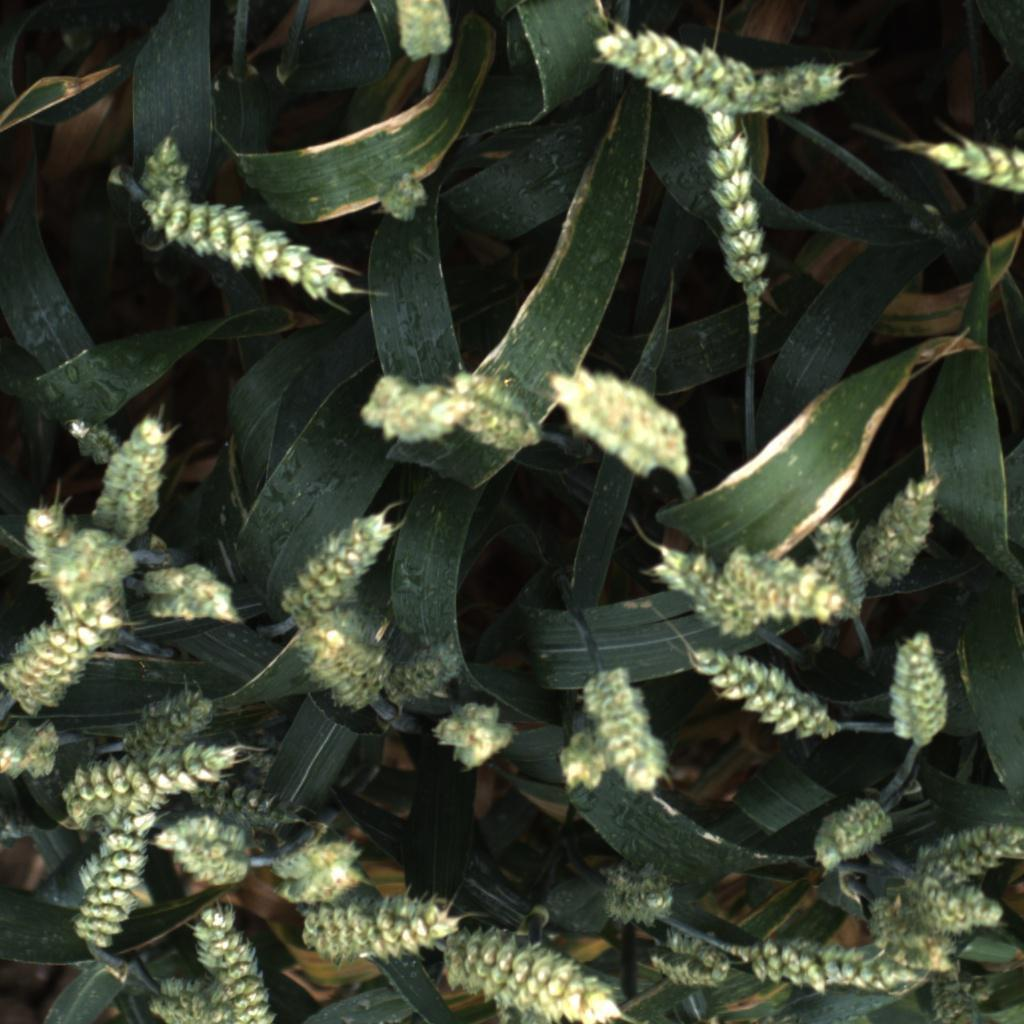0-0: (148, 205, 350, 311), (690, 108, 777, 322), (452, 924, 638, 1024), (551, 366, 690, 485), (0, 593, 123, 714), (688, 640, 830, 743), (60, 746, 242, 824), (584, 25, 748, 108), (634, 538, 766, 635), (304, 884, 461, 963), (581, 665, 678, 786), (77, 811, 160, 949), (281, 506, 390, 611), (753, 933, 913, 1000), (193, 904, 277, 1024), (724, 548, 849, 627), (95, 409, 175, 532), (864, 463, 945, 584), (293, 617, 385, 720), (895, 134, 1024, 206), (864, 894, 963, 987), (128, 116, 197, 241), (880, 631, 950, 752), (360, 371, 466, 449), (152, 811, 255, 890), (450, 367, 541, 455), (142, 560, 250, 634), (808, 509, 874, 625), (272, 831, 370, 907), (748, 54, 859, 118), (131, 680, 222, 758), (920, 819, 1024, 885), (431, 696, 517, 775), (59, 516, 144, 595), (814, 793, 893, 874), (646, 931, 737, 998), (21, 500, 90, 587), (907, 877, 1006, 935), (595, 862, 680, 929), (389, 632, 465, 704), (385, 0, 461, 67), (211, 782, 313, 831), (141, 970, 229, 1024), (548, 730, 612, 796), (0, 718, 62, 782), (53, 412, 118, 469), (928, 968, 991, 1024), (373, 168, 433, 225), (489, 1011, 568, 1024)
